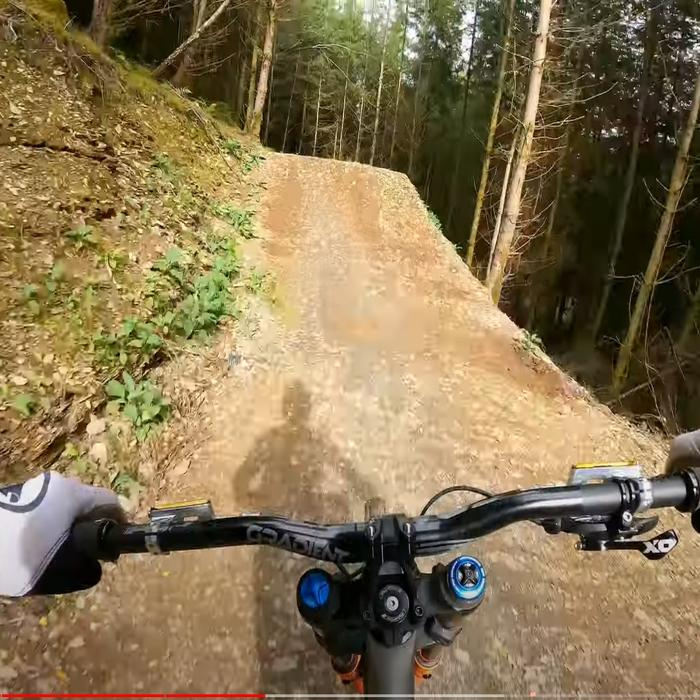turn: (232, 122, 430, 241)
